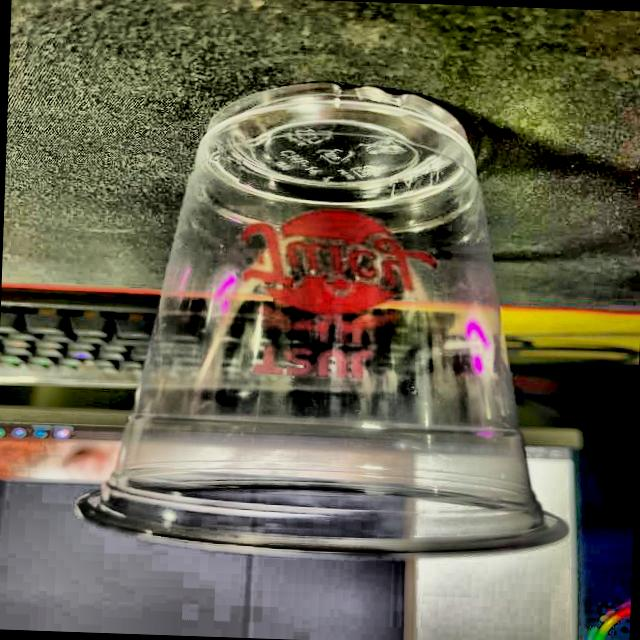plastic cup: (70, 71, 588, 568)
